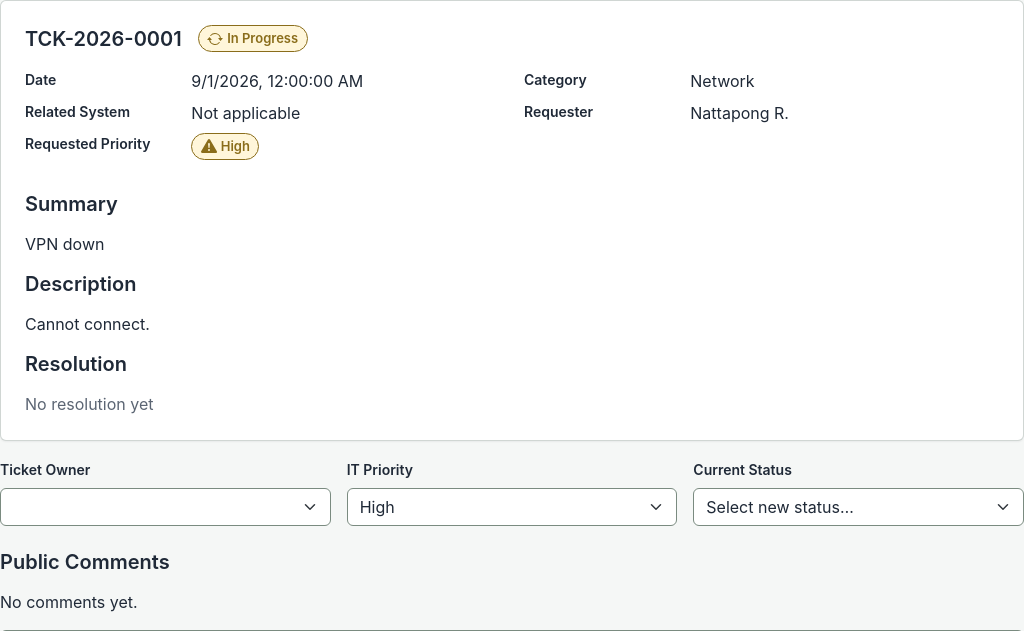
Test: Staff status change: resolution gate message (FR-06, ui-spec section 4) › CMP-17 a different 409 whose text mentions an action and resolving does not show the directed message
Select "Resolved" in the dropdown labelled "Current Status" at (859,507), box [693, 488, 1023, 526]
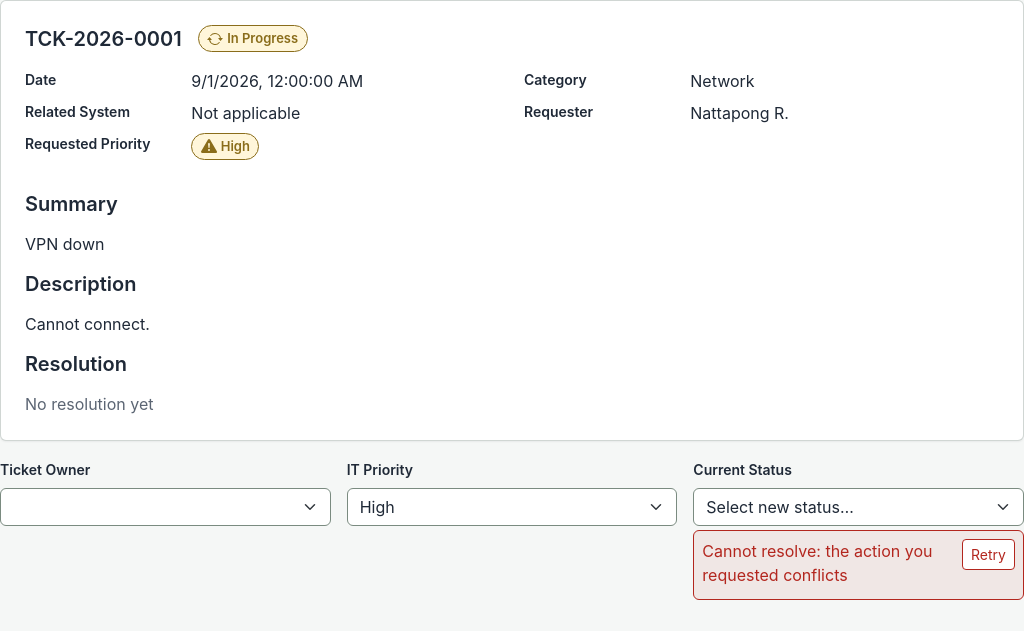
Result: the text "Cannot resolve: the action you requested conflicts" is shown at [702, 539, 954, 587]
